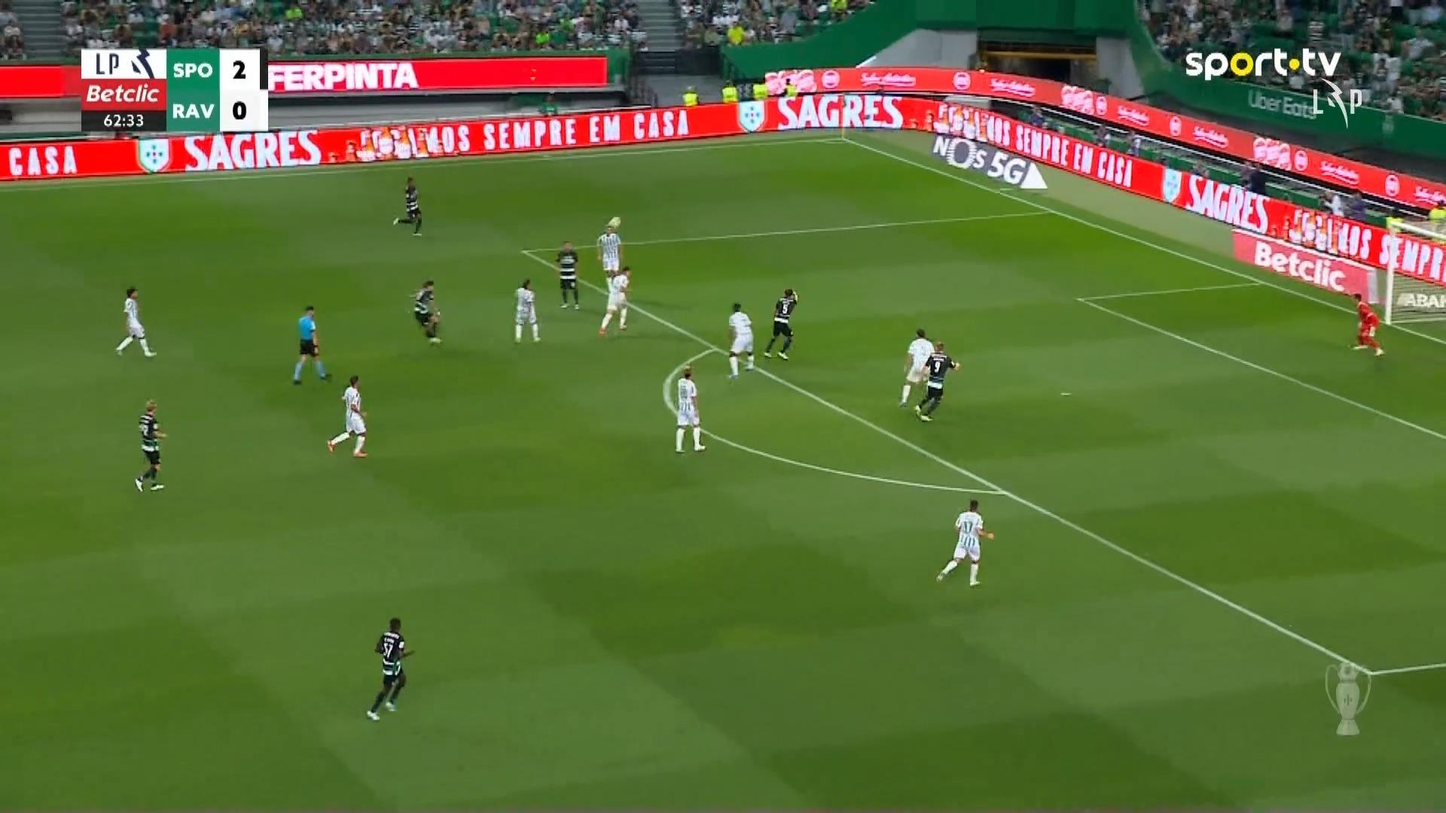ball: (607, 216, 621, 228)
goalkeeper: (1347, 291, 1384, 356)
player: (935, 498, 994, 586), (365, 617, 413, 720), (913, 340, 961, 422), (326, 374, 369, 458), (133, 398, 168, 492), (114, 285, 156, 357), (898, 327, 934, 407), (673, 366, 706, 452), (761, 287, 798, 360), (598, 264, 632, 336), (726, 302, 755, 379), (412, 279, 442, 344), (392, 175, 423, 236), (512, 278, 541, 343), (596, 217, 623, 285), (555, 240, 580, 310)
referee: (291, 304, 331, 384)
